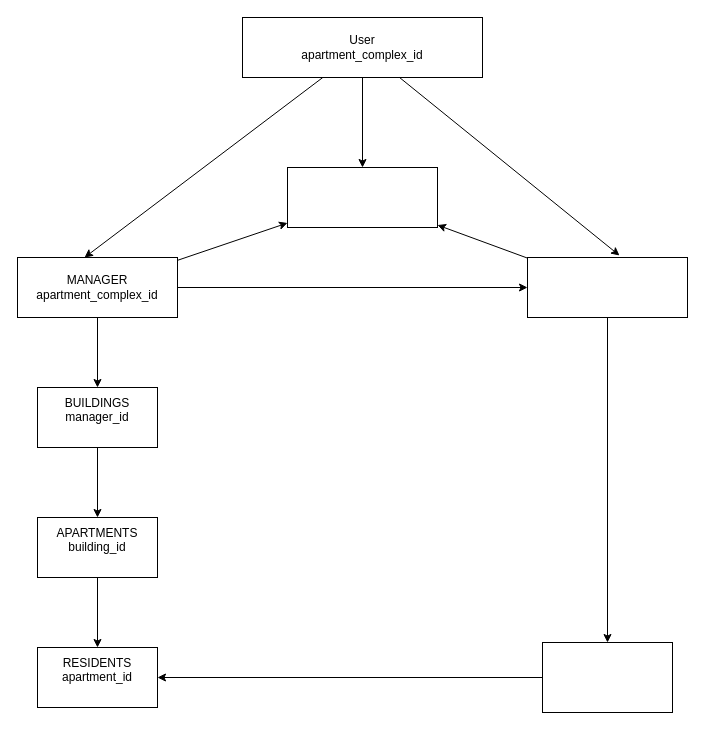
Image size: 705x730. Some labels were removed from this diagram. The shapes that lost their labels are listed below. From the top down, each one's box as (x1, y1, x2, y2) in pixels, then its label:
(286, 166, 438, 228): APARTMENT_COMPLEX
(526, 256, 688, 318): DOORMEN apartment_complex_id manager_id
(542, 642, 672, 712): PACKAGES resident_id apartment_id doormen_id
